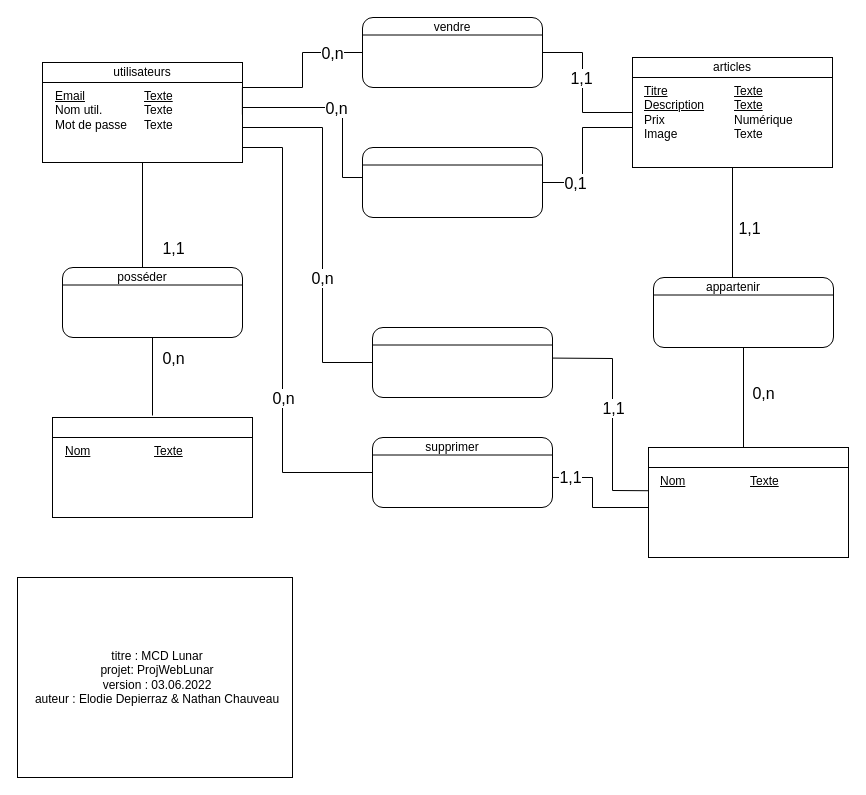
Some shapes in this 866 by 795 pixel diagram are drawn without their labels. Each missing label, with the box of its shape:
acheter: (362, 146, 542, 218)
ajouter: (372, 326, 552, 398)
catégories: (648, 446, 848, 468)
types: (52, 416, 252, 438)
